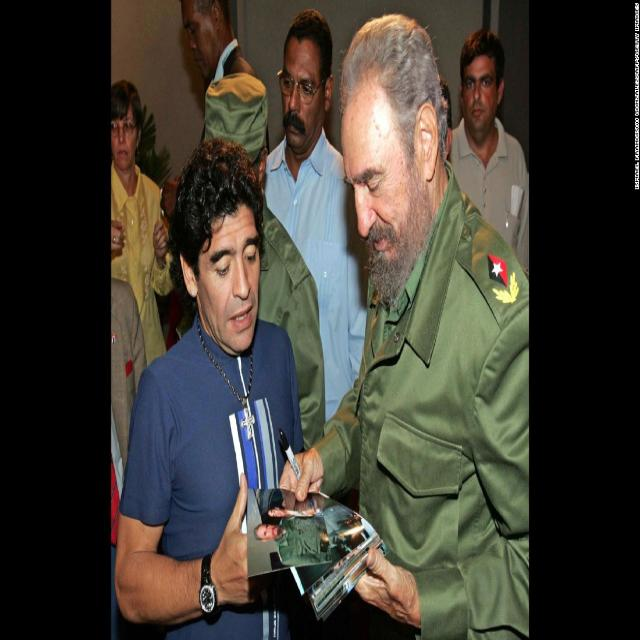body: (277, 13, 530, 640), (112, 136, 307, 640), (174, 71, 326, 455), (261, 5, 371, 422), (444, 25, 530, 282), (110, 80, 177, 373), (182, 0, 268, 159), (109, 274, 148, 560), (251, 491, 362, 578), (439, 77, 456, 180)
